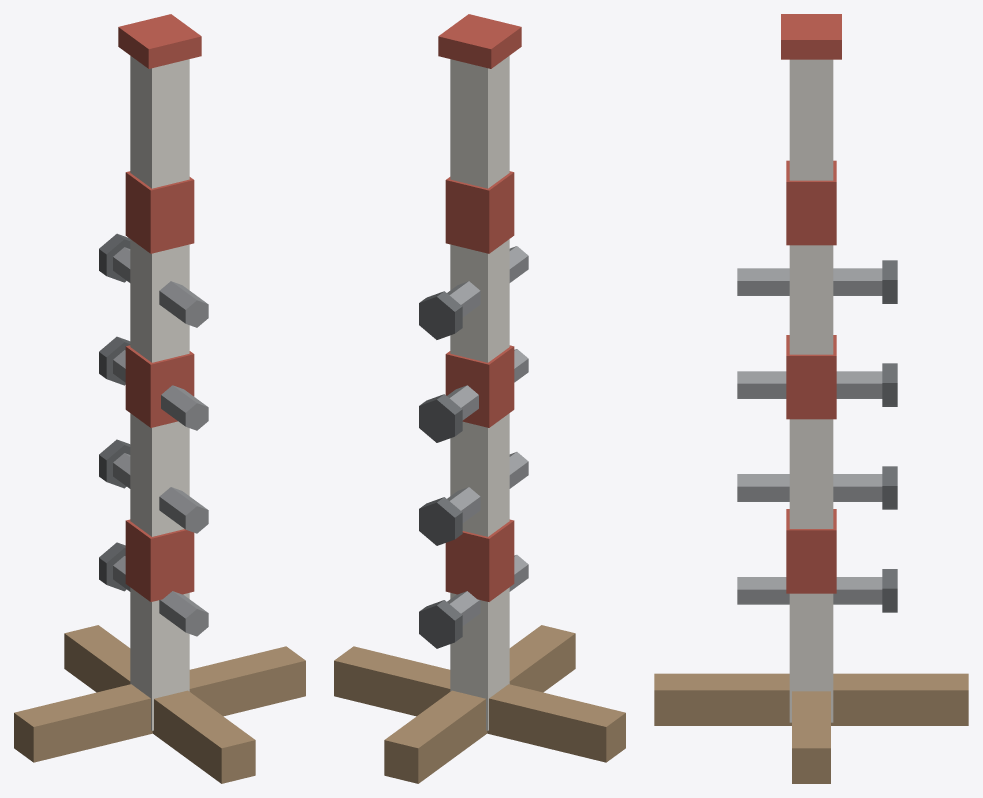
File: jump_wing.glb
3 renders of one model, left to right at view 1: azimuth 30°, elevation 25°; view 2: azimuth 150°, elevation 25°; view 3: azimuth 270°, elevation 25°, orthographic.
Visible parts, largest first — view 1: jump_wing; view 2: jump_wing; view 3: jump_wing.
Boxes of the visible parts, x1,y1,x2,y2 form: jump_wing: (14,14,305,783); jump_wing: (334,14,625,783); jump_wing: (654,14,968,783).
Bounding box in the file's own units: 0.72 × 1.75 × 0.72.
